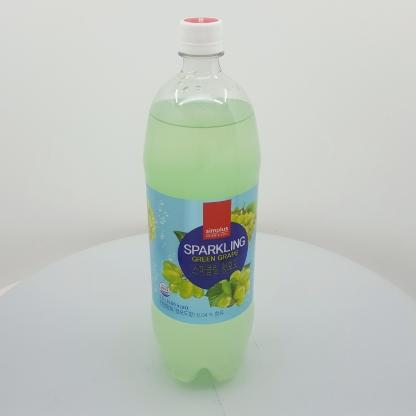---------------: (143, 17, 261, 383)
